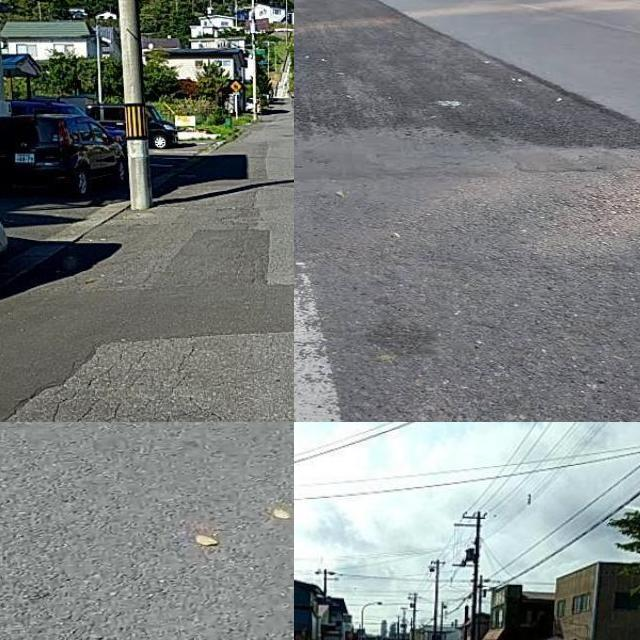Sambungan: (0, 225, 294, 422), (294, 0, 640, 147)
